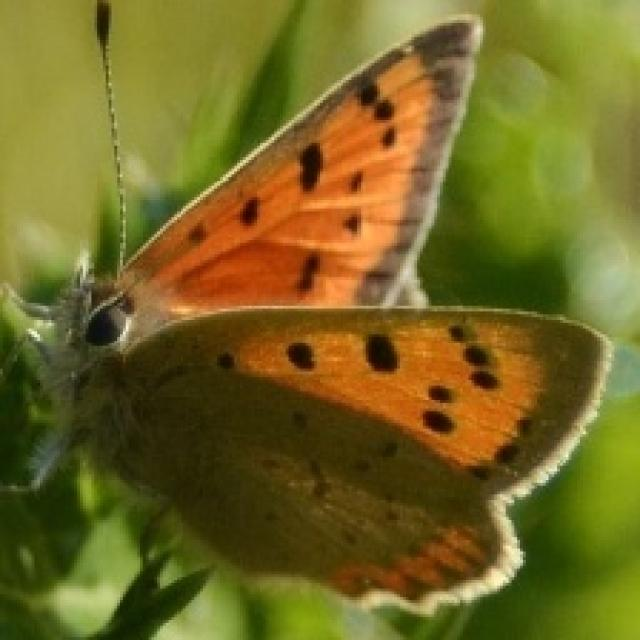butterfly: (0, 0, 614, 617)
